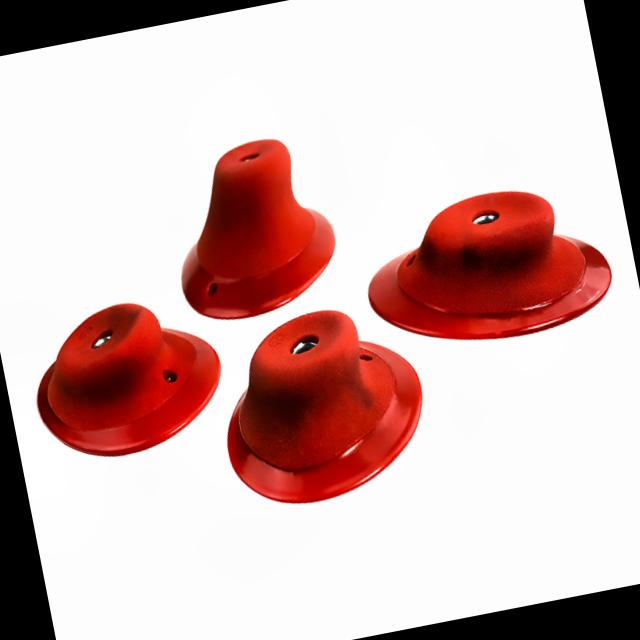Hold: (205, 294, 440, 516), (355, 176, 625, 362), (23, 288, 233, 469), (158, 130, 348, 330)
